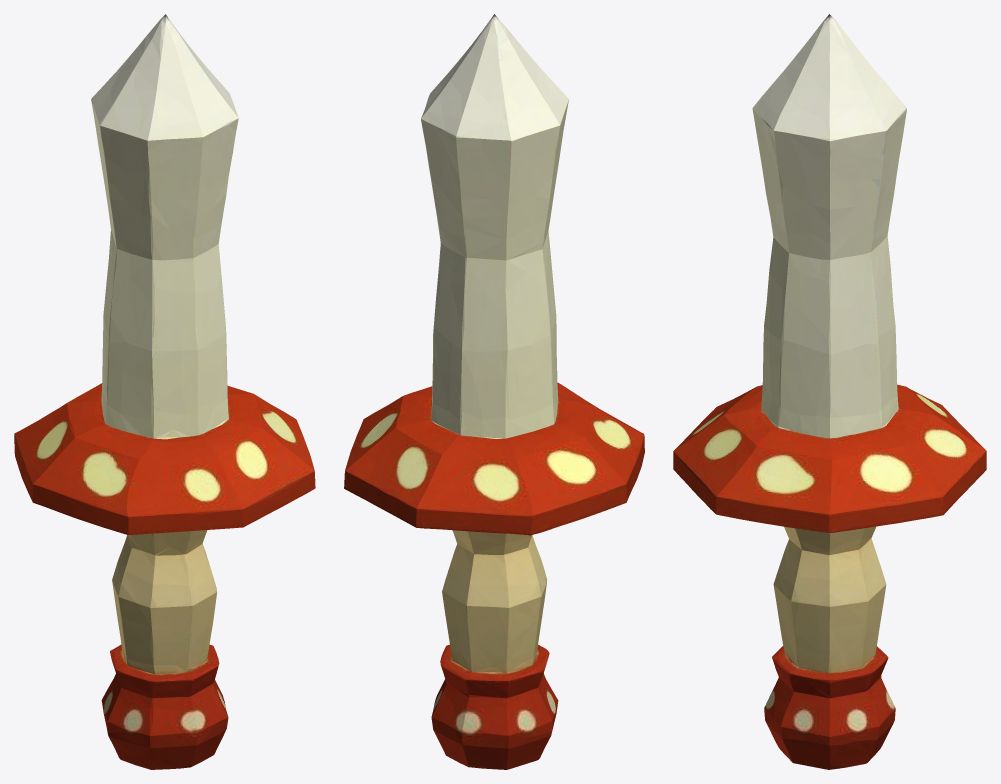
File: a_champignon_epee.glb
3 views of the same model, side by side, from view 1: azimuth 30°, elevation 25°; view 2: azimuth 150°, elevation 25°; view 3: azimuth 270°, elevation 25° (orthographic).
Visible parts, largest first — view 1: geometry_0; view 2: geometry_0; view 3: geometry_0.
Boxes of the visible parts, x1=… form: geometry_0: x1=14, y1=14, x2=315, y2=769; geometry_0: x1=344, y1=14, x2=644, y2=769; geometry_0: x1=673, y1=14, x2=986, y2=769.
Bounding box in the file's own units: 0.3717 × 0.9957 × 0.3833.
1 material, 1 textured.
